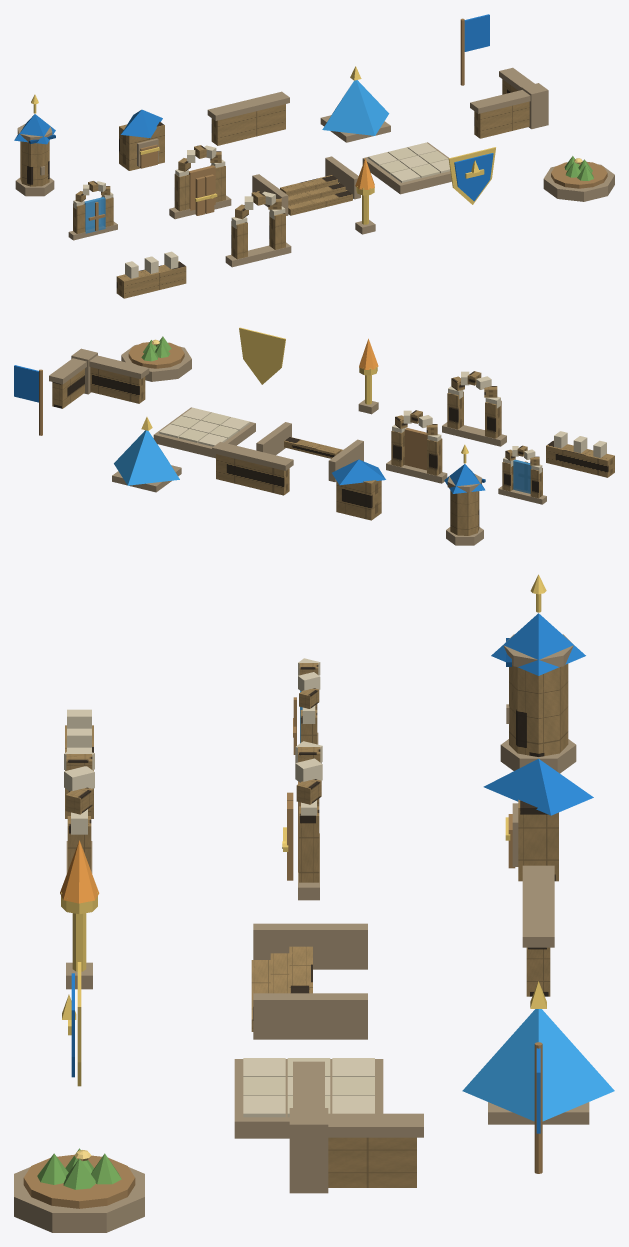
File: city-module-kit-lod1.glb
The picture shows the model from 3 angles, top to bottom: view 1: azimuth 30°, elevation 25°; view 2: azimuth 150°, elevation 25°; view 3: azimuth 270°, elevation 25°; orthographic projection. The views are drawn at different scales.
Parts seen in each view (by area): view 1: module_roof_tile_blue_pyramid, module_wall_facade, module_merlon_base_wall, module_corner_wall_a_facade, module_tower_stone_body, module_flowerbed_stone_ring, module_shield_blue_plate, module_platform_base, module_wall_top_walkway, module_gate_stone_arch, module_corner_square_pier, module_flowerbed_soil (+19 smaller); view 2: module_roof_tile_blue_pyramid, module_wall_facade, module_shield_gold_rim, module_gate_stone_arch, module_merlon_base_wall, module_corner_wall_a_facade, module_tower_stone_body, module_platform_base, module_wall_top_walkway, module_gate_blue_roof, module_door_frame_inner_panel, module_flowerbed_soil (+23 smaller); view 3: module_roof_tile_blue_pyramid, module_stairs_right_cheek, module_tower_stone_body, module_corner_wall_b_facade, module_stairs_left_cheek, module_flowerbed_stone_ring, module_corner_square_pier, module_gate_blue_roof, module_flowerbed_soil, module_wall_top_walkway, module_platform_base, module_gate_stone_arch (+11 smaller).
Part boxes in pixels (x1,y1,x2,y2): module_roof_tile_blue_pyramid: [322, 80, 389, 135]; module_wall_facade: [211, 104, 285, 145]; module_merlon_base_wall: [116, 261, 186, 298]; module_corner_wall_a_facade: [474, 101, 529, 138]; module_tower_stone_body: [20, 141, 49, 186]; module_flowerbed_stone_ring: [543, 164, 614, 201]; module_shield_blue_plate: [454, 153, 493, 201]; module_platform_base: [362, 142, 451, 194]; module_wall_top_walkway: [207, 91, 289, 120]; module_gate_stone_arch: [119, 122, 164, 170]; module_corner_square_pier: [521, 83, 548, 129]; module_flowerbed_soil: [551, 161, 607, 188]; module_roof_tile_blue_pyramid: [114, 430, 179, 485]; module_wall_facade: [216, 454, 289, 495]; module_shield_gold_rim: [239, 327, 285, 384]; module_gate_stone_arch: [336, 480, 381, 520]; module_merlon_base_wall: [546, 440, 614, 477]; module_corner_wall_a_facade: [90, 367, 145, 403]; module_tower_stone_body: [450, 490, 479, 535]; module_platform_base: [153, 407, 255, 458]; module_wall_top_walkway: [212, 442, 293, 470]; module_gate_blue_roof: [332, 459, 385, 485]; module_door_frame_inner_panel: [404, 428, 427, 470]; module_flowerbed_soil: [128, 342, 184, 368]; module_roof_tile_blue_pyramid: [462, 1009, 614, 1121]; module_stairs_right_cheek: [253, 993, 367, 1039]; module_tower_stone_body: [509, 664, 568, 756]; module_corner_wall_b_facade: [328, 1137, 416, 1187]; module_stairs_left_cheek: [253, 923, 367, 969]; module_flowerbed_stone_ring: [14, 1167, 144, 1232]; module_corner_square_pier: [289, 1108, 328, 1193]; module_gate_blue_roof: [483, 758, 593, 815]; module_flowerbed_soil: [23, 1154, 135, 1208]; module_wall_top_walkway: [522, 865, 554, 947]; module_platform_base: [234, 1059, 383, 1138]; module_gate_stone_arch: [518, 799, 558, 881].
Bounding box in the file's own units: 3.28 × 0.735 × 1.78.
48 materials, 9 textured.
